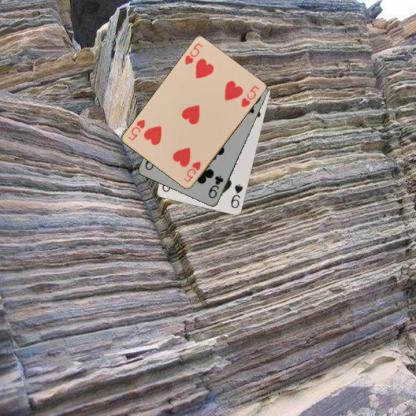5h: (182, 40, 204, 66), (181, 159, 203, 184)
9c: (206, 173, 224, 200)
9s: (228, 181, 245, 210)
